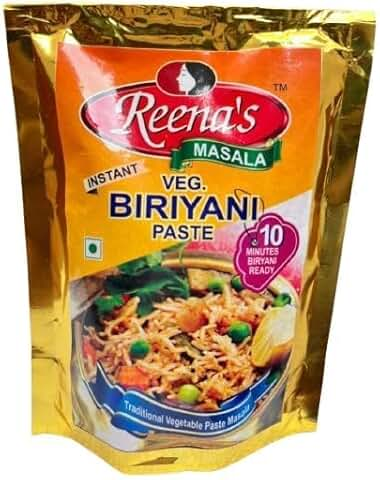Biryani: (13, 9, 358, 480)
